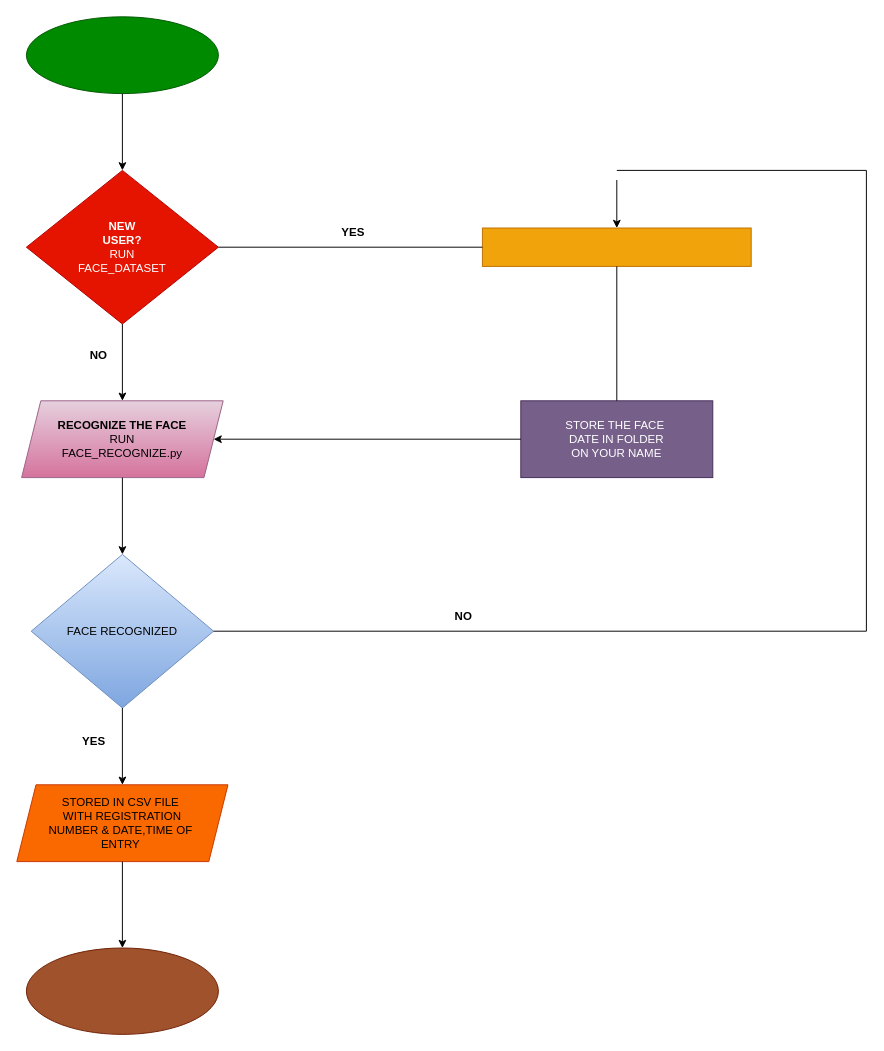
The diagram is 884 pixels wide and 1051 high, and some of its shapes have lost their labels. Each missing label, with the centre of its shape:
"END" goes at pixel 121 990.
"GIVE YOUR PHOTOGRAPH" goes at pixel 616 246.
"START" goes at pixel 121 55.
